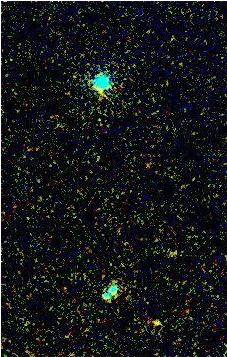star: (138, 306, 168, 336)
